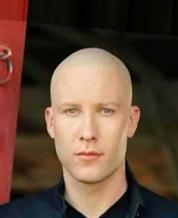face: (60, 101, 114, 162)
